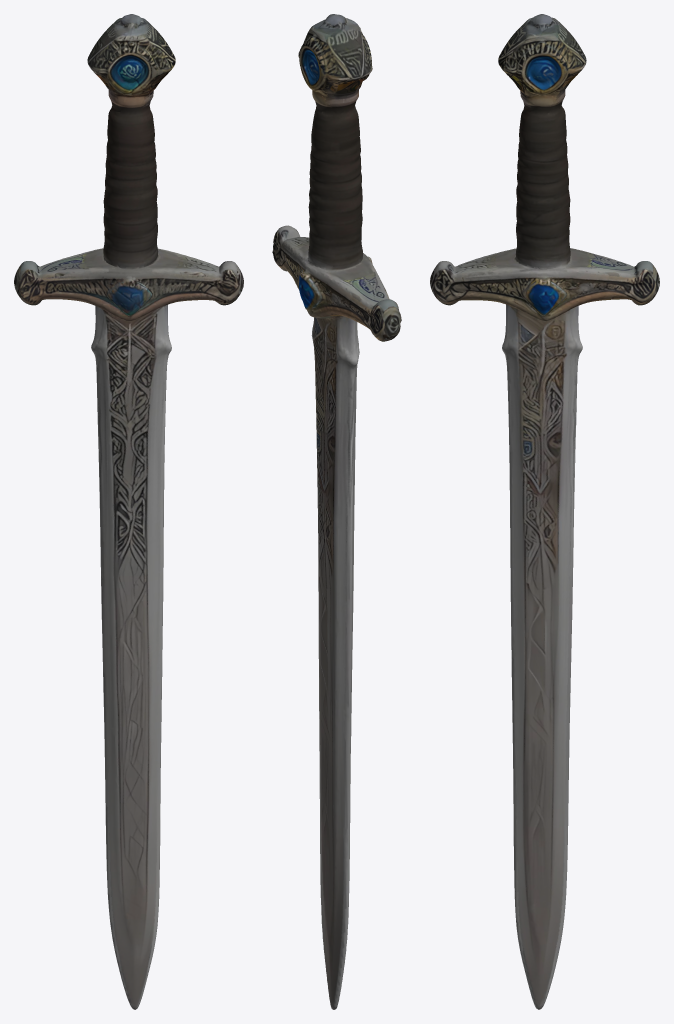
Rendered from e7e2f614-ddd7-42ab-981f-a1cc7eeef7fd.glb.
3 renders of one model, left to right at view 1: azimuth 90°, elevation 25°; view 2: azimuth 210°, elevation 25°; view 3: azimuth 270°, elevation 25°, orthographic.
Visible parts, largest first — view 1: tripo_node_407c0cf0-8a93-4531-9c6f-e8e5a7886e0d; view 2: tripo_node_407c0cf0-8a93-4531-9c6f-e8e5a7886e0d; view 3: tripo_node_407c0cf0-8a93-4531-9c6f-e8e5a7886e0d.
Part boxes in pixels (box(x1,y1,x2,y2)): tripo_node_407c0cf0-8a93-4531-9c6f-e8e5a7886e0d: box(14, 14, 243, 1009); tripo_node_407c0cf0-8a93-4531-9c6f-e8e5a7886e0d: box(272, 14, 401, 1009); tripo_node_407c0cf0-8a93-4531-9c6f-e8e5a7886e0d: box(430, 14, 659, 1009).
Bounding box in the file's own units: 0.074 × 1 × 0.2095.
Materials: 1 (1 with a texture image).
